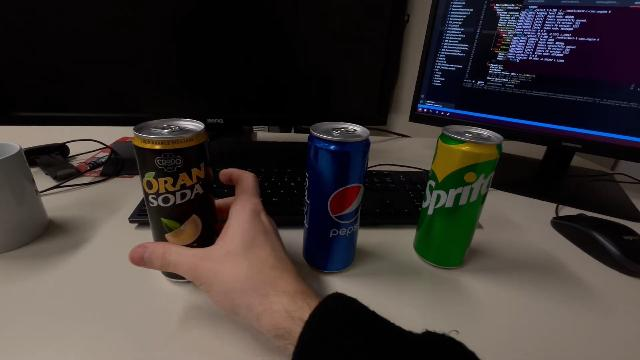OranSoda: (131, 116, 221, 284)
Pepsi: (301, 121, 373, 278)
Sprite: (411, 123, 503, 272)
